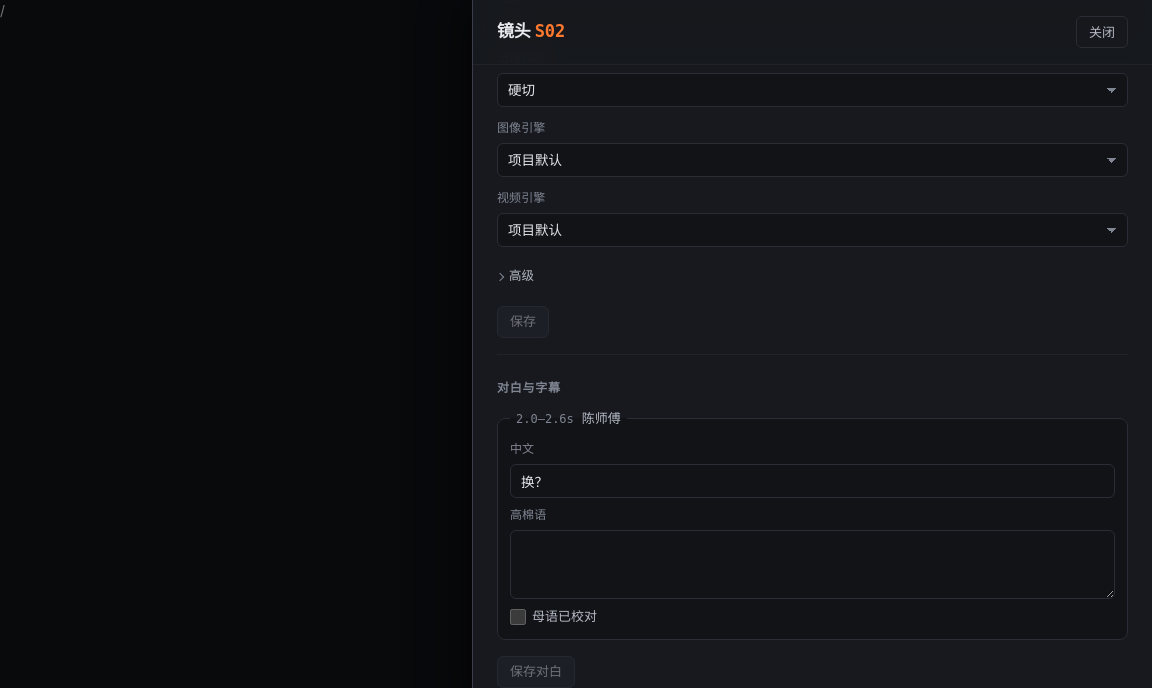
Test: ShotDrawer › 保存失败就不生成
(page scrolled)
In the field named "第 1 句中文": [812, 481] box [510,464,1115,498], type "吗"
(page scrolled)
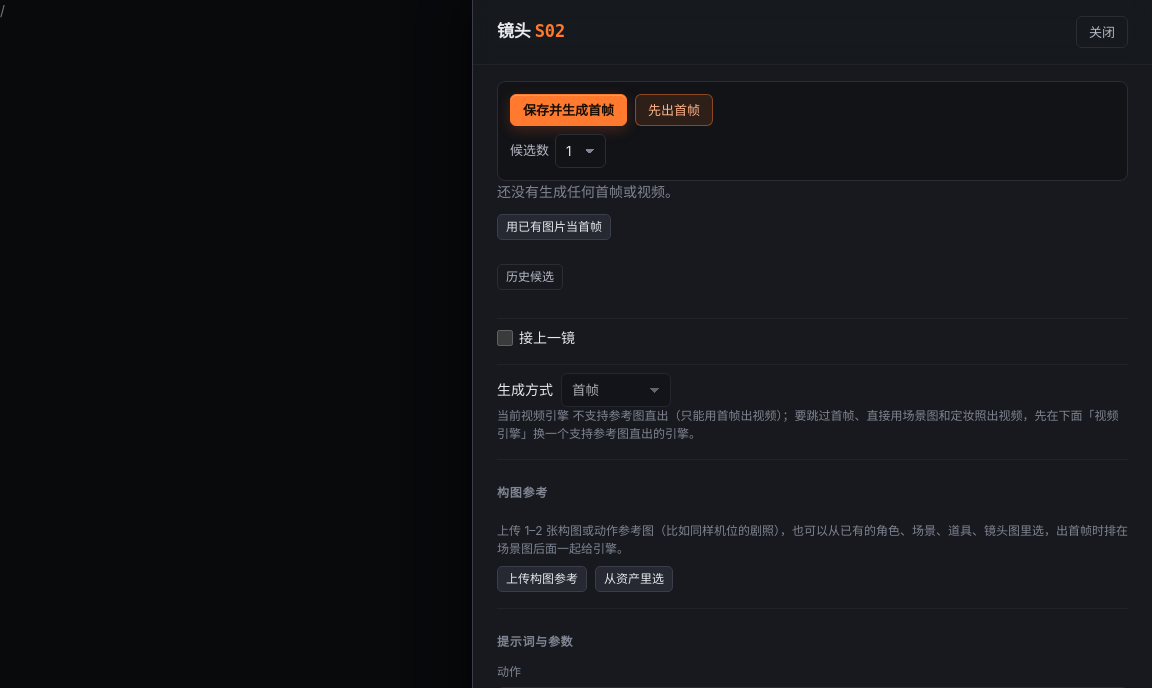
Click the button "保存并生成首帧": [568, 110] box [510,94,627,126]
(page scrolled)
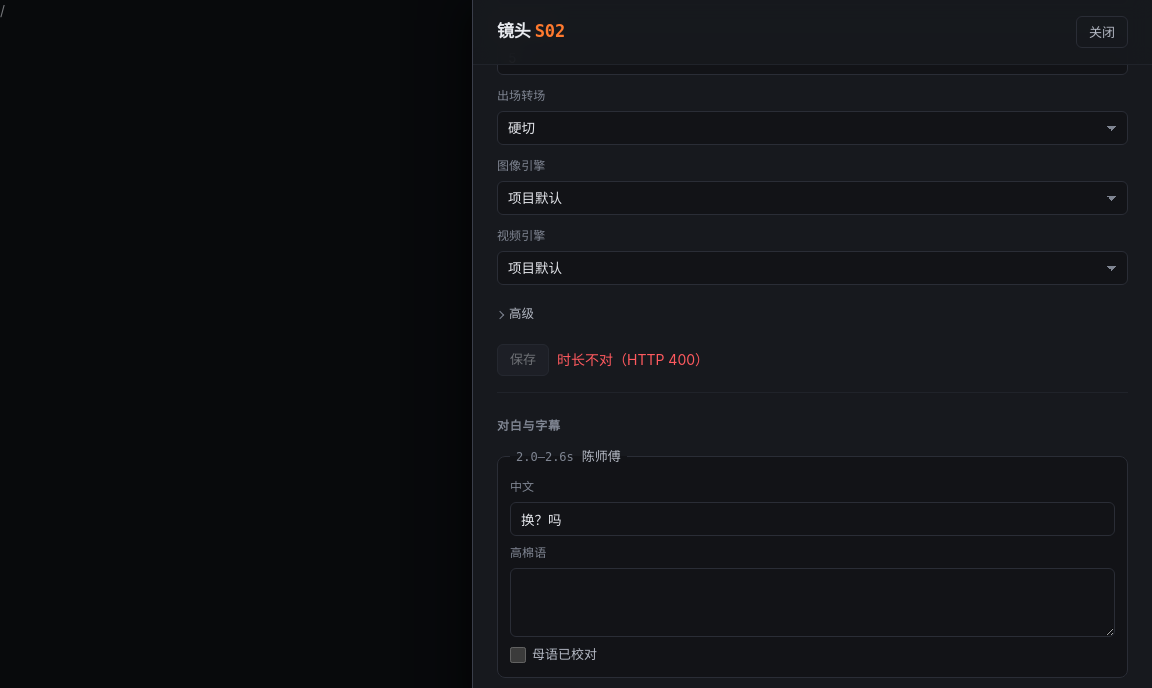
Now the text "时长不对（HTTP 400）" is shown, box [557,349,709,370]
